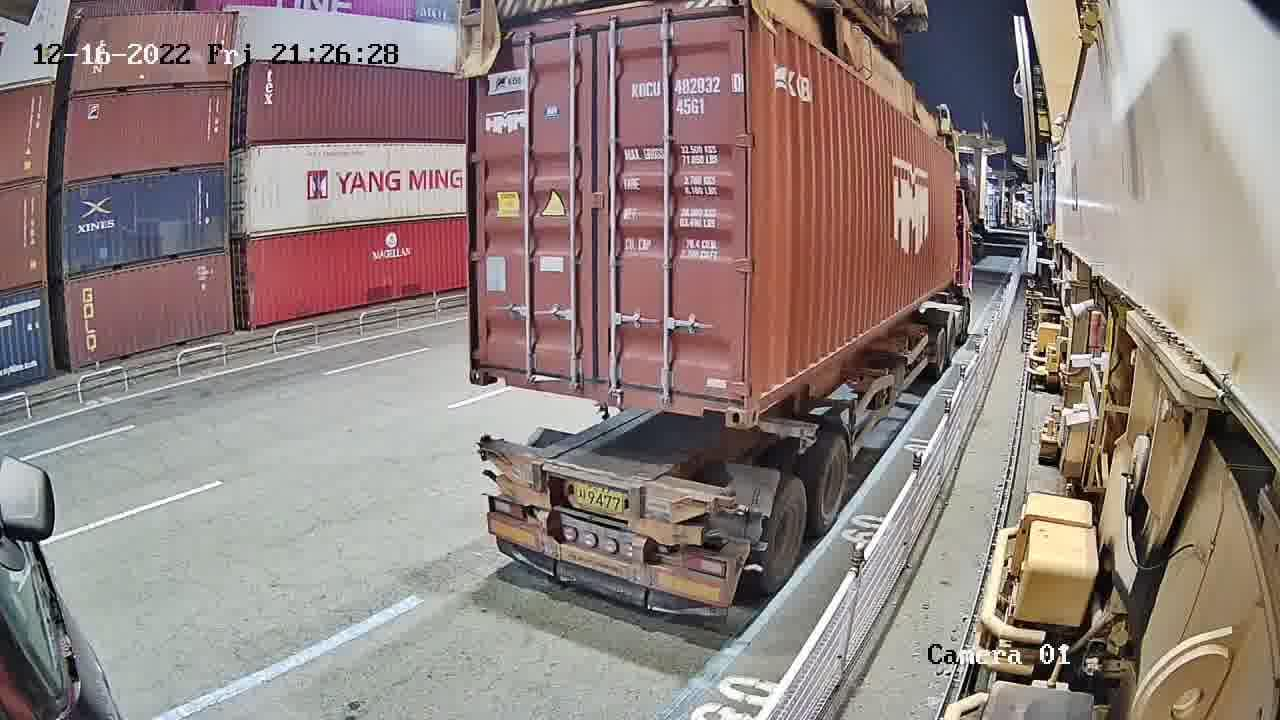Chassis: (485, 446, 737, 545)
Cone: (722, 487, 740, 514), (479, 431, 494, 459)
Hole_L: (744, 358, 783, 429), (468, 336, 521, 388)
Hole_R: (693, 361, 747, 427)
Tire: (764, 484, 806, 588), (812, 444, 852, 529)
